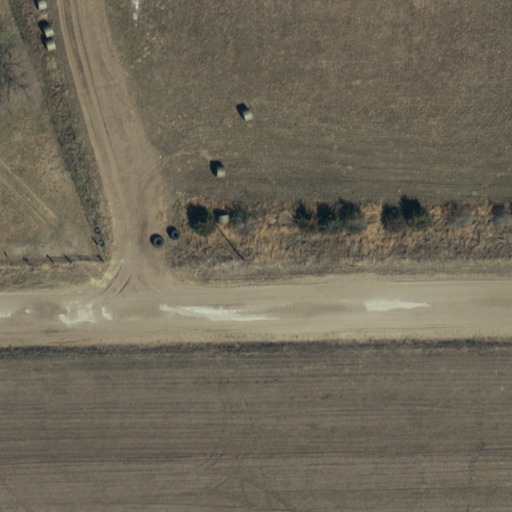DT: (235, 251, 255, 274)
